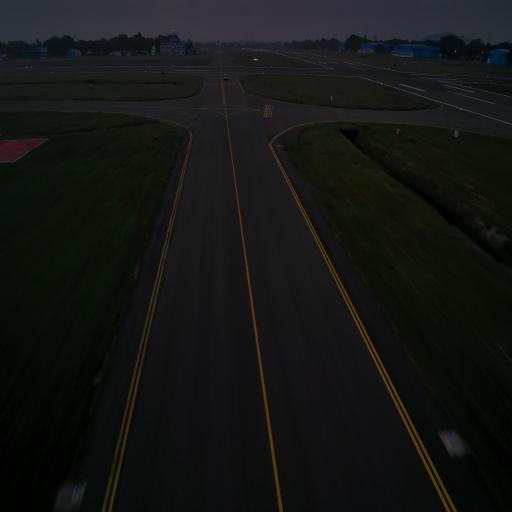on: (444, 425, 456, 447), (69, 482, 79, 504)
